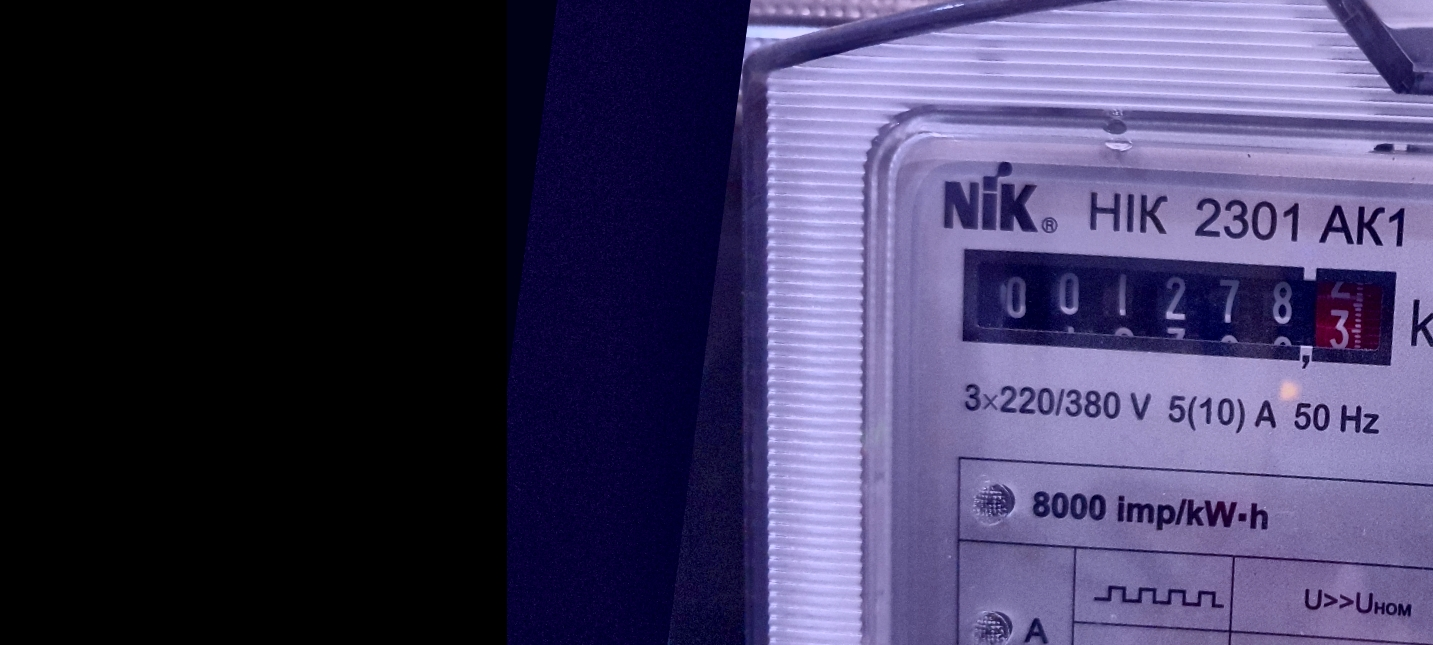0: (1001, 271, 1033, 321), (1053, 268, 1085, 318)
1: (1111, 269, 1135, 317)
2: (1160, 274, 1192, 323), (1328, 278, 1354, 300)
3: (1323, 305, 1355, 352)
7: (1213, 275, 1241, 325)
8: (1268, 279, 1298, 326)
screen: (937, 203, 1421, 410)
